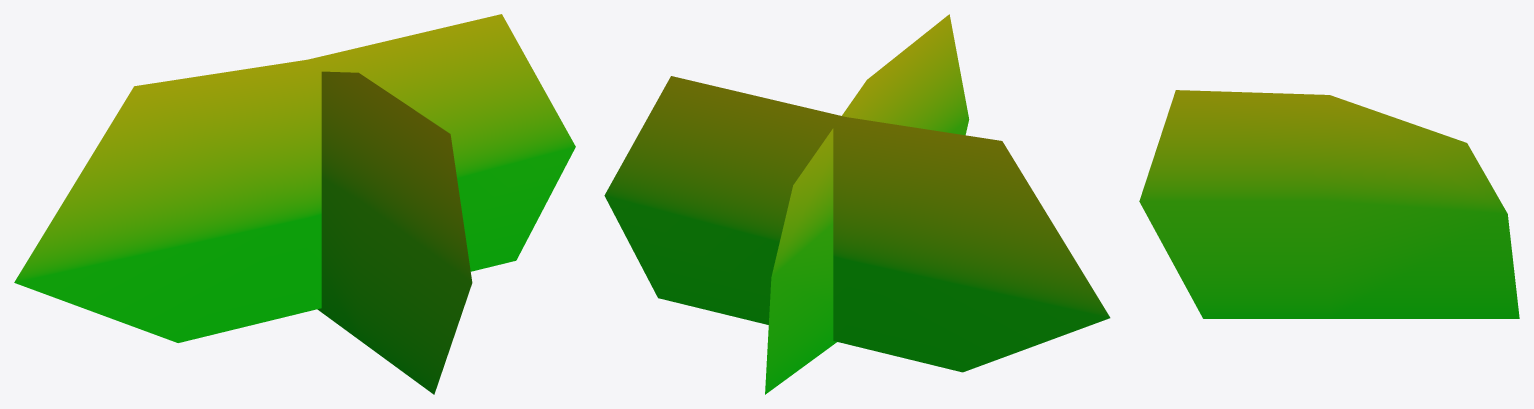
File: Lingonberry_LOD5_Var7.fbx
3 views of the same model, side by side, from view 1: azimuth 30°, elevation 25°; view 2: azimuth 150°, elevation 25°; view 3: azimuth 270°, elevation 25° (orthographic). The views are drawn at different scales.
Visible parts, largest first — view 1: _lm67_Var7_LOD5; view 2: _lm67_Var7_LOD5; view 3: _lm67_Var7_LOD5.
Part boxes in pixels (x1,y1,x2,y2): _lm67_Var7_LOD5: (14,14,575,394); _lm67_Var7_LOD5: (604,14,1110,394); _lm67_Var7_LOD5: (1139,90,1519,318).
Size of the model in its own units: 30.54 by 14.18 by 21.35.
